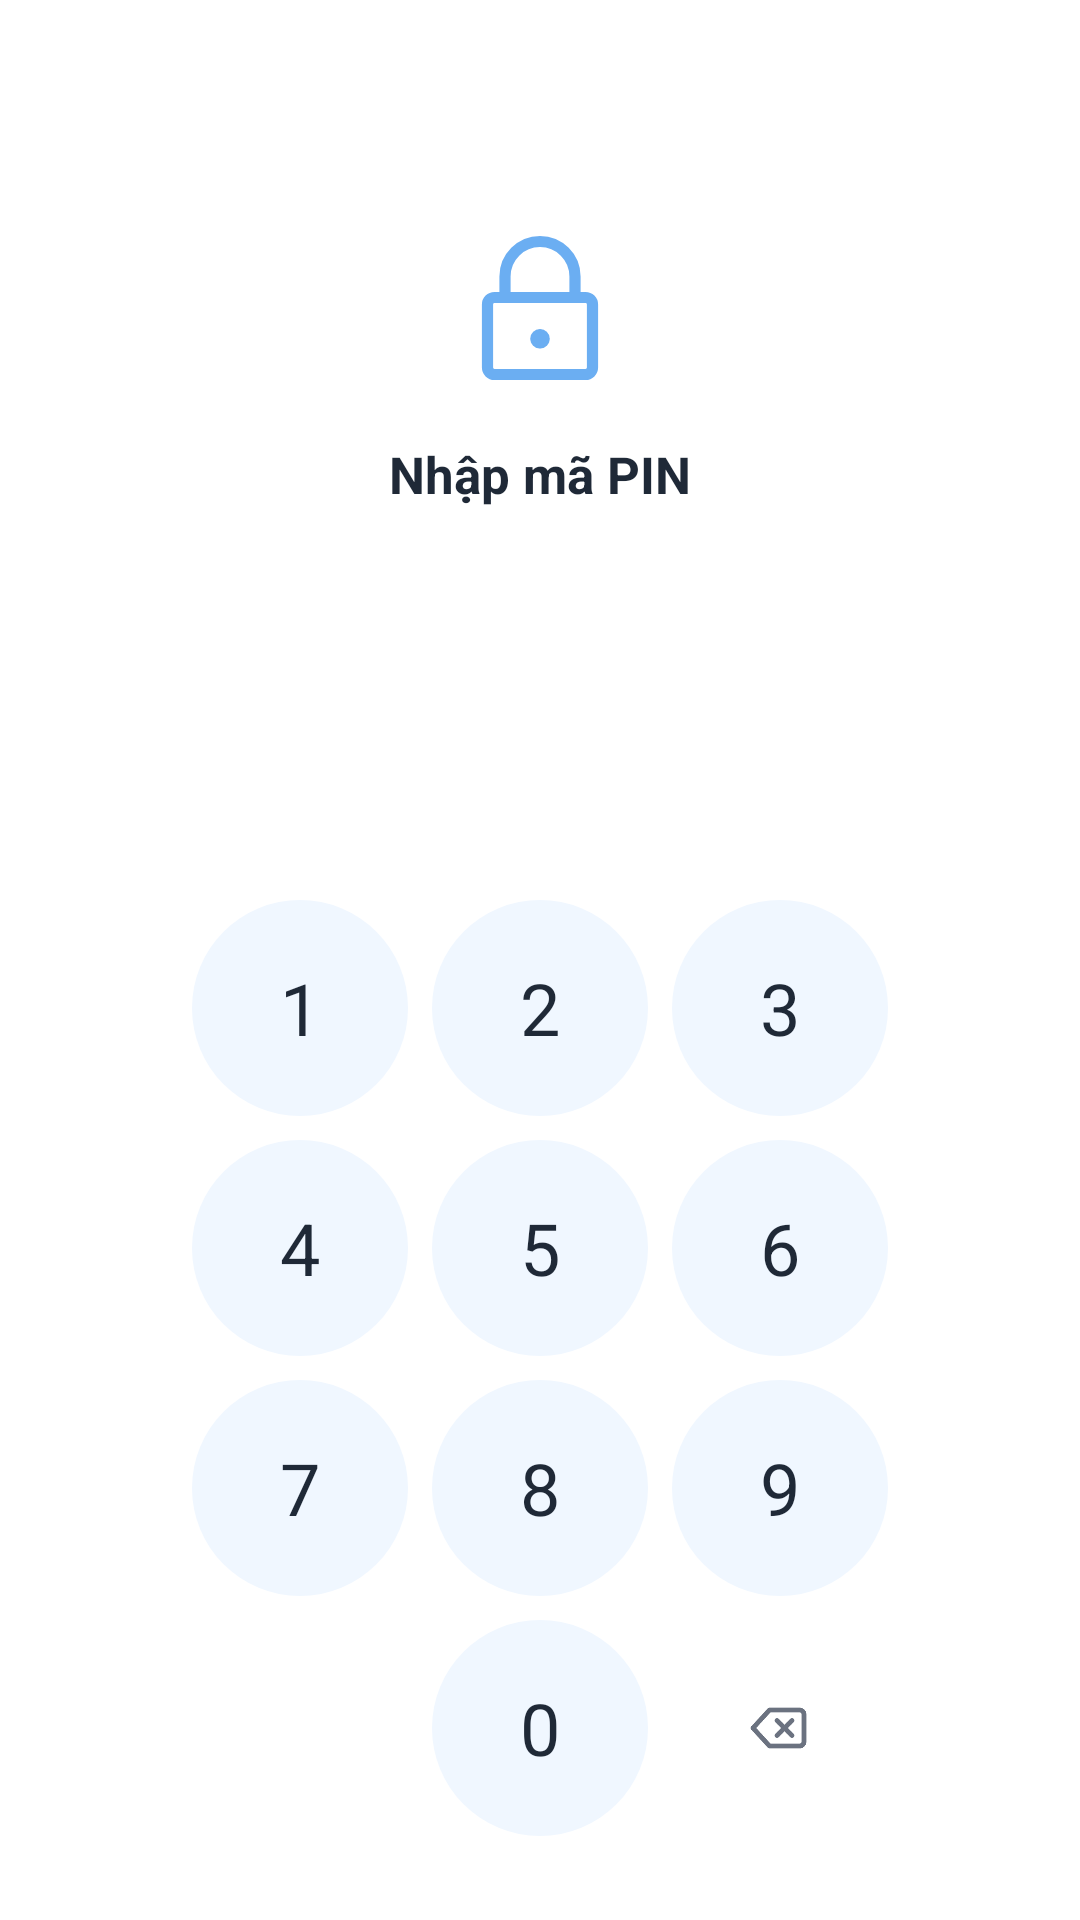

Icons on this 1080w x 1920h Android screen, each with the point to tap as (x,y):
backspace: (778,1728)
lock: (540,308)
